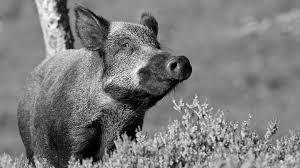wildboar: (14, 2, 193, 168)
